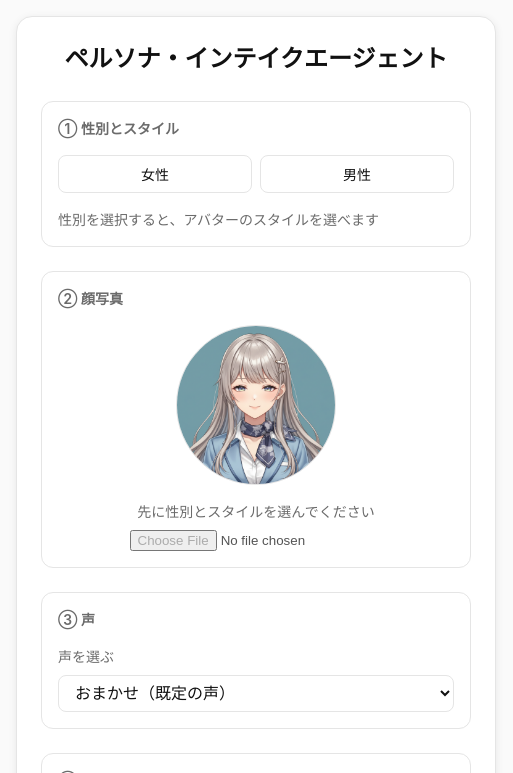
Test: AvatarPanel › disables the photo upload until both gender and style are chosen
This screenshot has width=513, height=773.
Check: the file field labelled "先に性別とスタイルを選んでください" is disabled, box [130, 530, 382, 551]
Click the radio button labelled "女性". click: x=155, y=174
box: [58, 155, 252, 193]
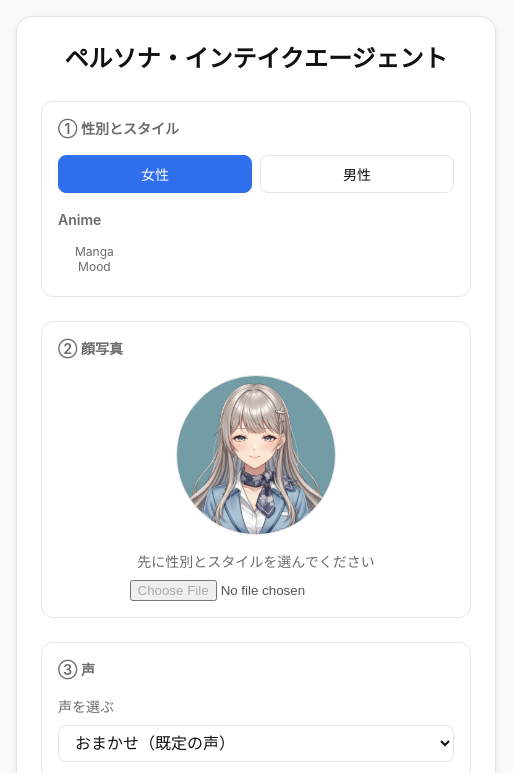
Check: the file field labelled "先に性別とスタイルを選んでください" is disabled, box [130, 580, 382, 601]
Click the radio button labelled "Manga Mood". click: x=94, y=259
box: [58, 238, 131, 280]
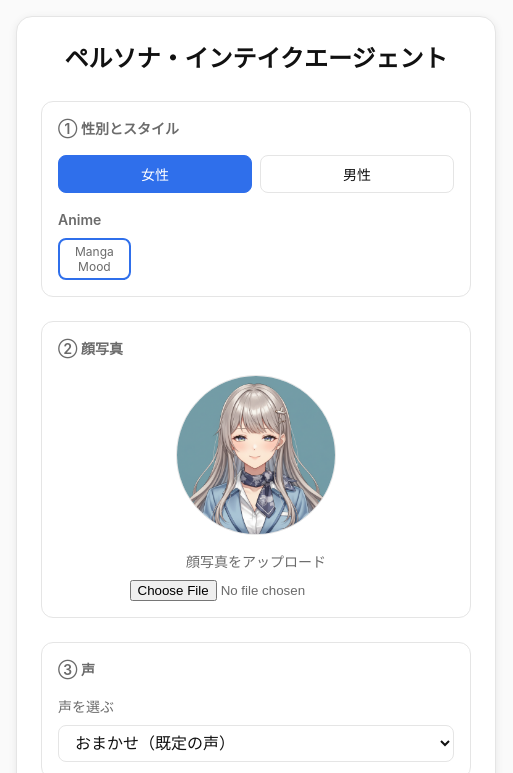
Check: the file field labelled "顔写真をアップロード" is enabled, box [130, 580, 382, 601]
